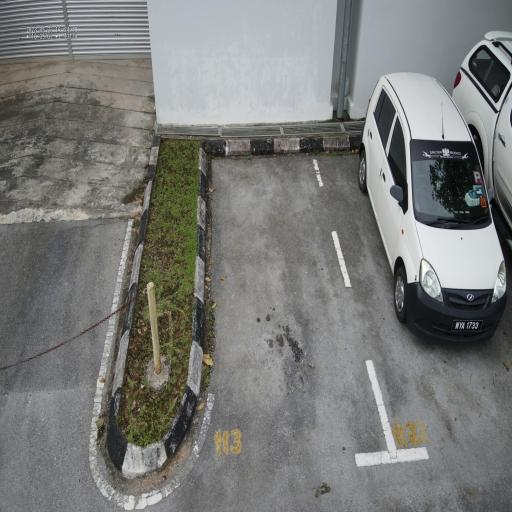Empty: (185, 110, 401, 494)
